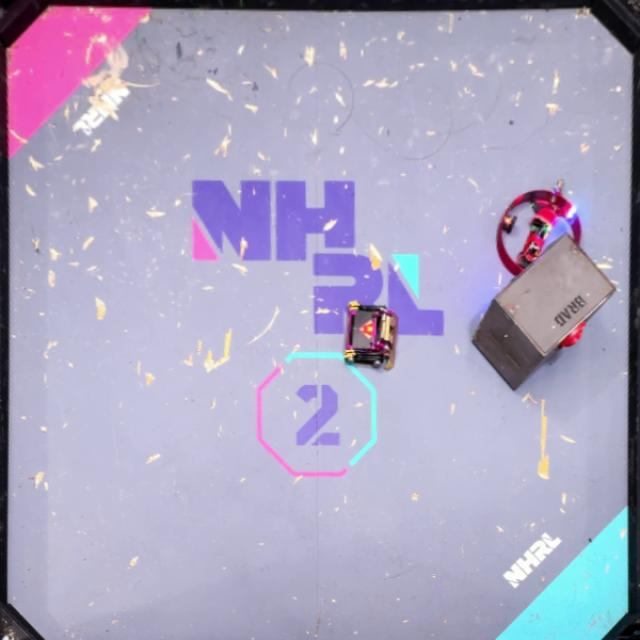housebot: (471, 231, 616, 389)
robot: (498, 179, 582, 277), (344, 300, 398, 370)
